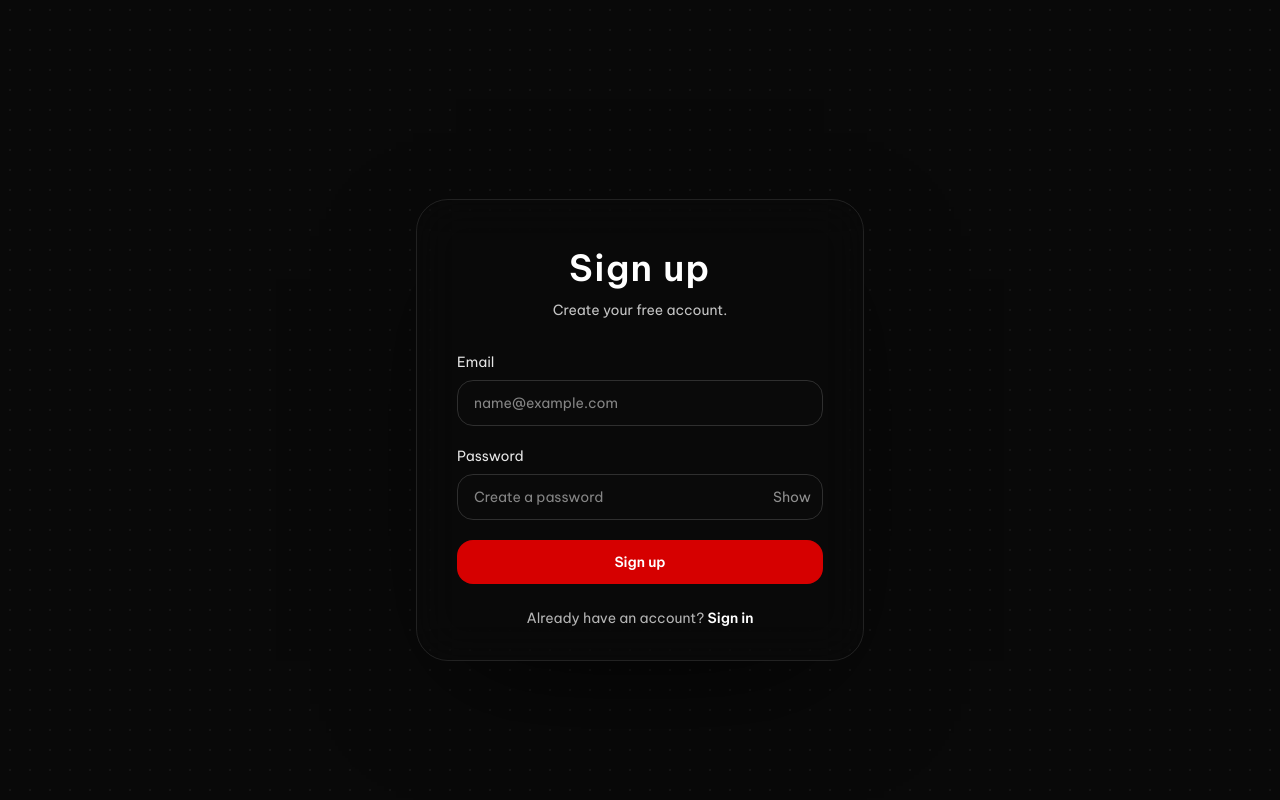
Test: RegisterPage › validates required fields without submitting
Click the button "Sign up" at (640, 562), box [457,540,823,584]
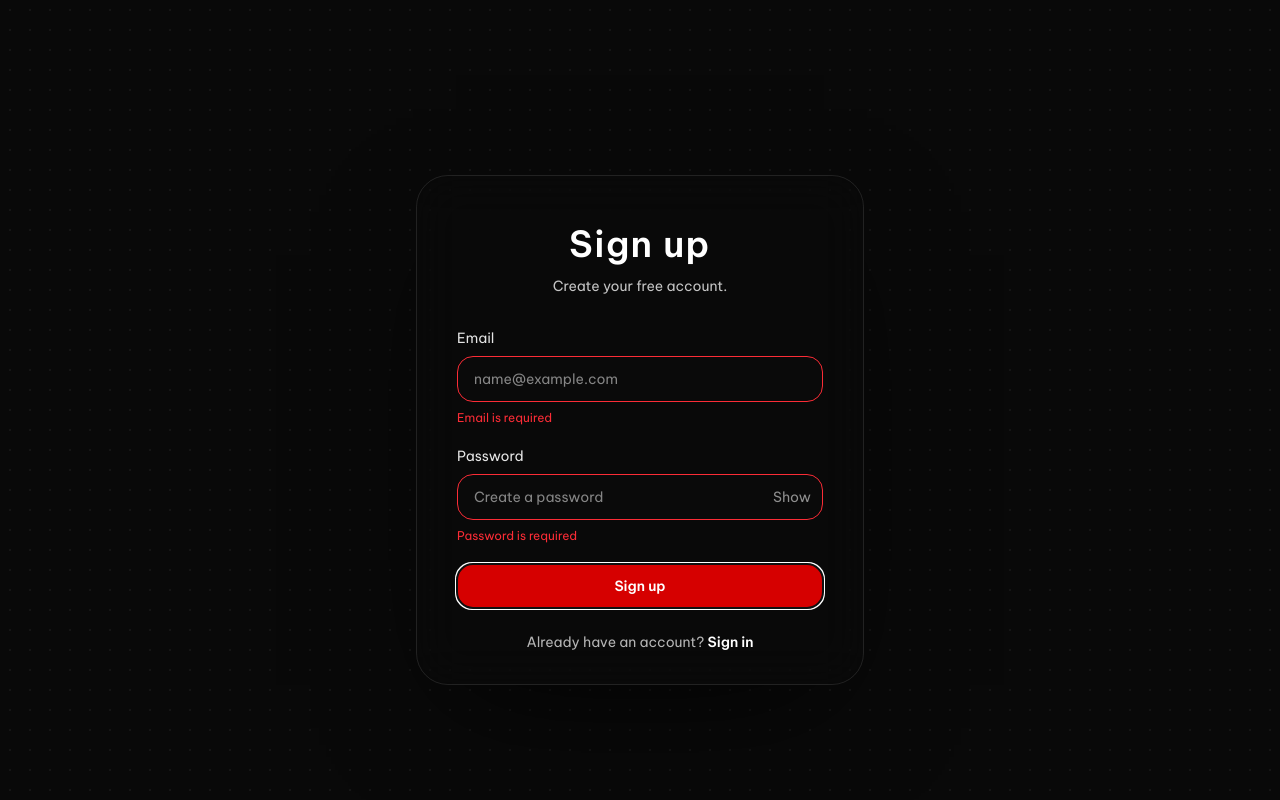
Expected: the button "Sign up" is enabled, [457,564,823,608]
Now the text "Email is required" is shown, box [457,410,552,425]
Now the text "Password is required" is shown, box [457,528,577,543]
